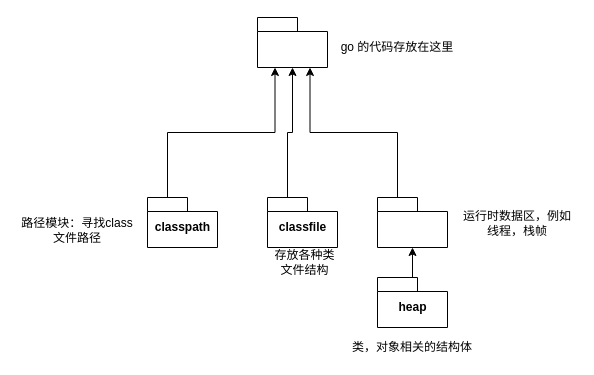
The diagram is 594 pixels wide and 375 high, and some of its shapes have lost their labels. Here are the shapes that lost their labels. From the top down, the centre of each, then its label:
the point at 292,42: vm
the point at 412,222: rtda
